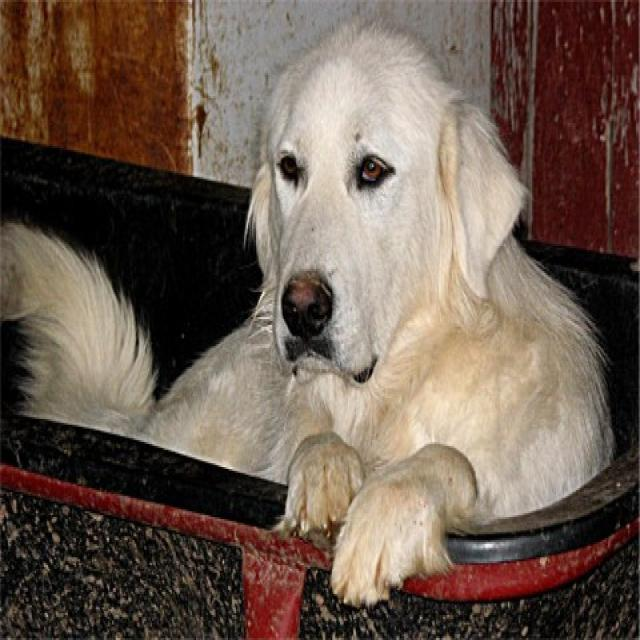dog-great_pyrenees: (1, 2, 625, 628)
